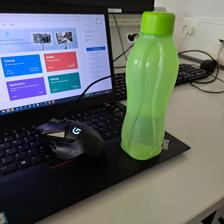bottle: (117, 10, 179, 161)
mouse: (35, 116, 107, 167)
